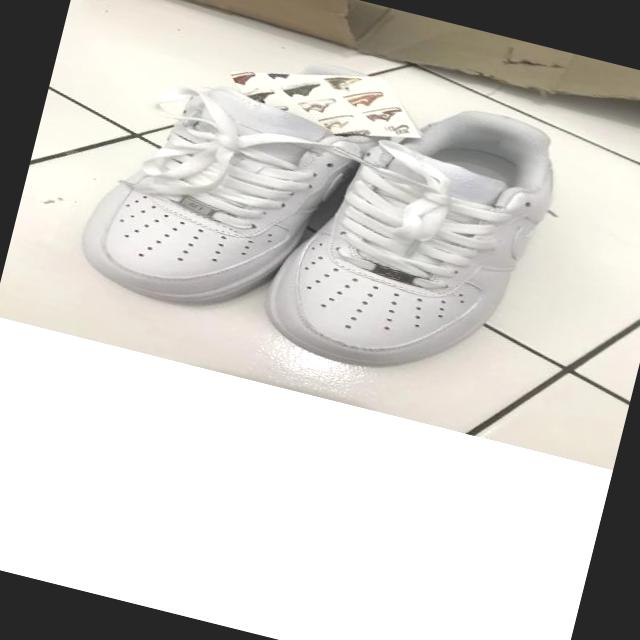nike_original_airforce: (61, 0, 404, 342), (248, 69, 584, 414)
